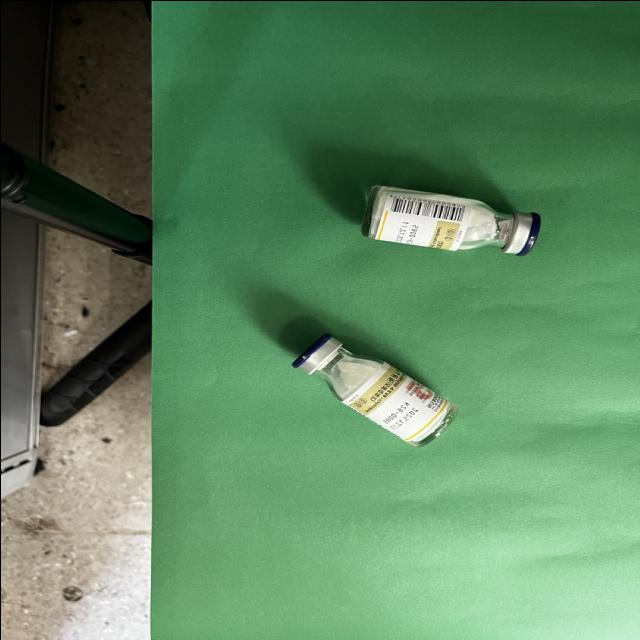Vials: (290, 330, 459, 446), (359, 182, 541, 256)
